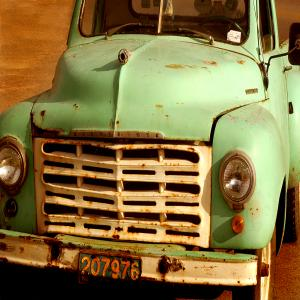Vehicle-registration-plate: (72, 252, 141, 287)
